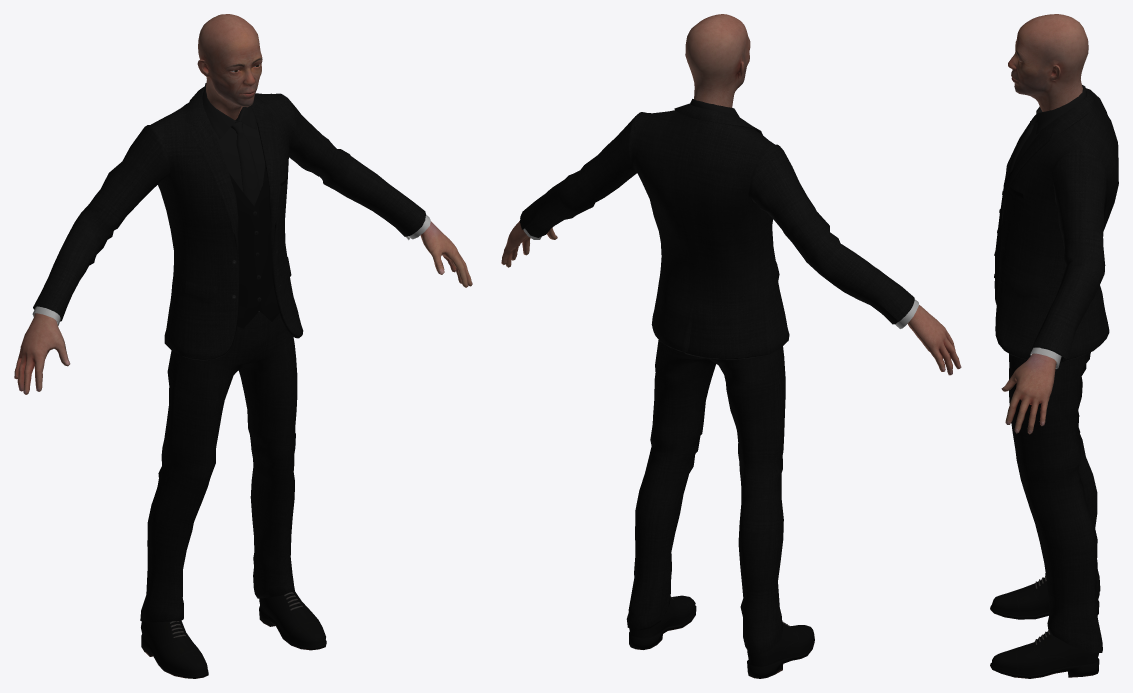
The model's file is Henry_LOD.fbx.
The picture shows the model from 3 angles, left to right: view 1: azimuth 30°, elevation 25°; view 2: azimuth 150°, elevation 25°; view 3: azimuth 270°, elevation 25°; orthographic projection.
Parts seen in each view (by area): view 1: Henry_LOD; view 2: Henry_LOD; view 3: Henry_LOD.
Part boxes in pixels (x1,y1,x2,y2): Henry_LOD: (14,14,472,678); Henry_LOD: (501,14,961,678); Henry_LOD: (990,14,1118,678).
Size of the model in its own units: 138 by 185 by 34.46.
